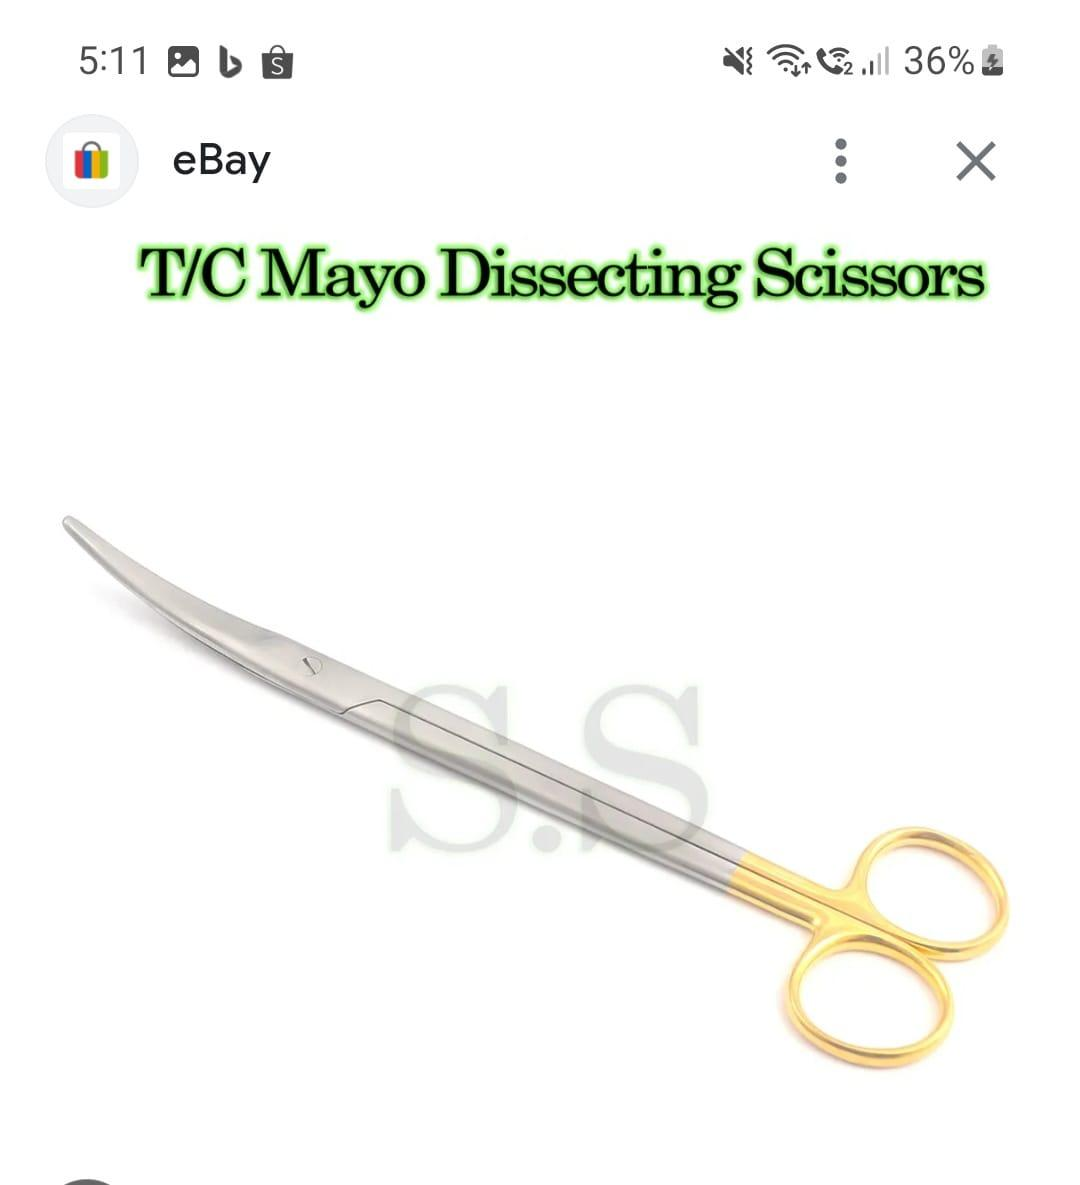Curved Mayo: (45, 486, 1015, 1092)
